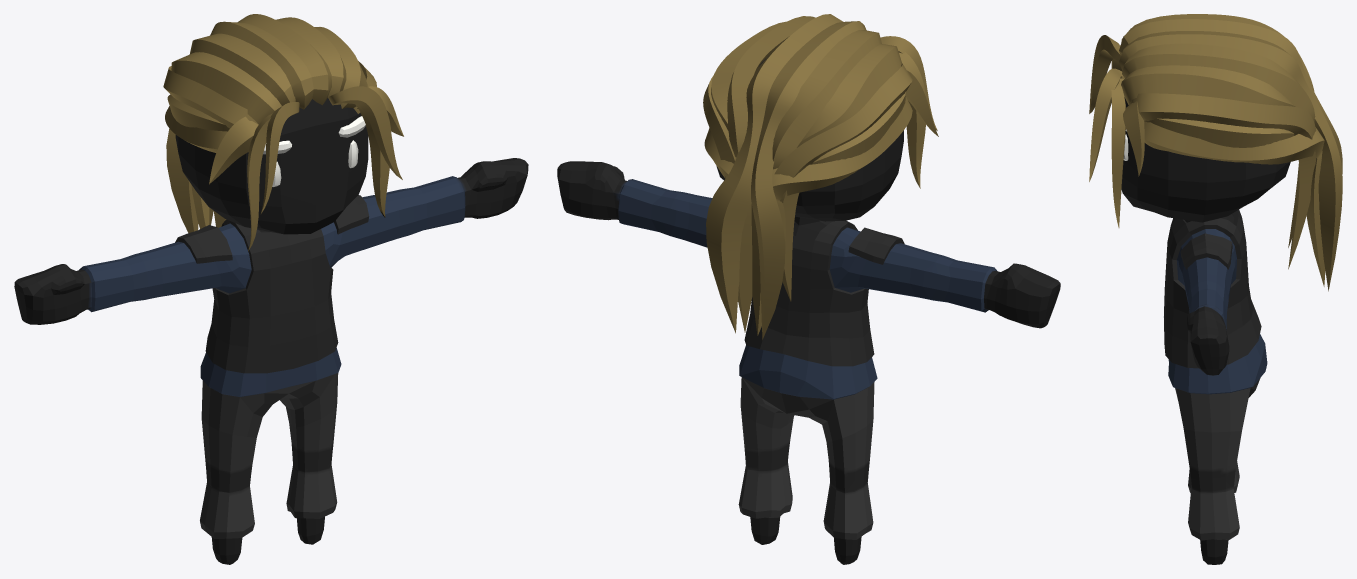
The model's file is BlueSoldier_Female.fbx.
3 renders of one model, left to right at view 1: azimuth 30°, elevation 25°; view 2: azimuth 150°, elevation 25°; view 3: azimuth 270°, elevation 25°, orthographic. The views are drawn at different scales.
Parts seen in each view (by area): view 1: Body; view 2: Body; view 3: Body.
Boxes of the visible parts, x1,y1,x2,y2 form: Body: [14, 14, 528, 564]; Body: [557, 14, 1060, 564]; Body: [1089, 14, 1342, 564].
Bounding box in the file's own units: 324 × 320 × 142.
Materials: 1 (1 with a texture image).
